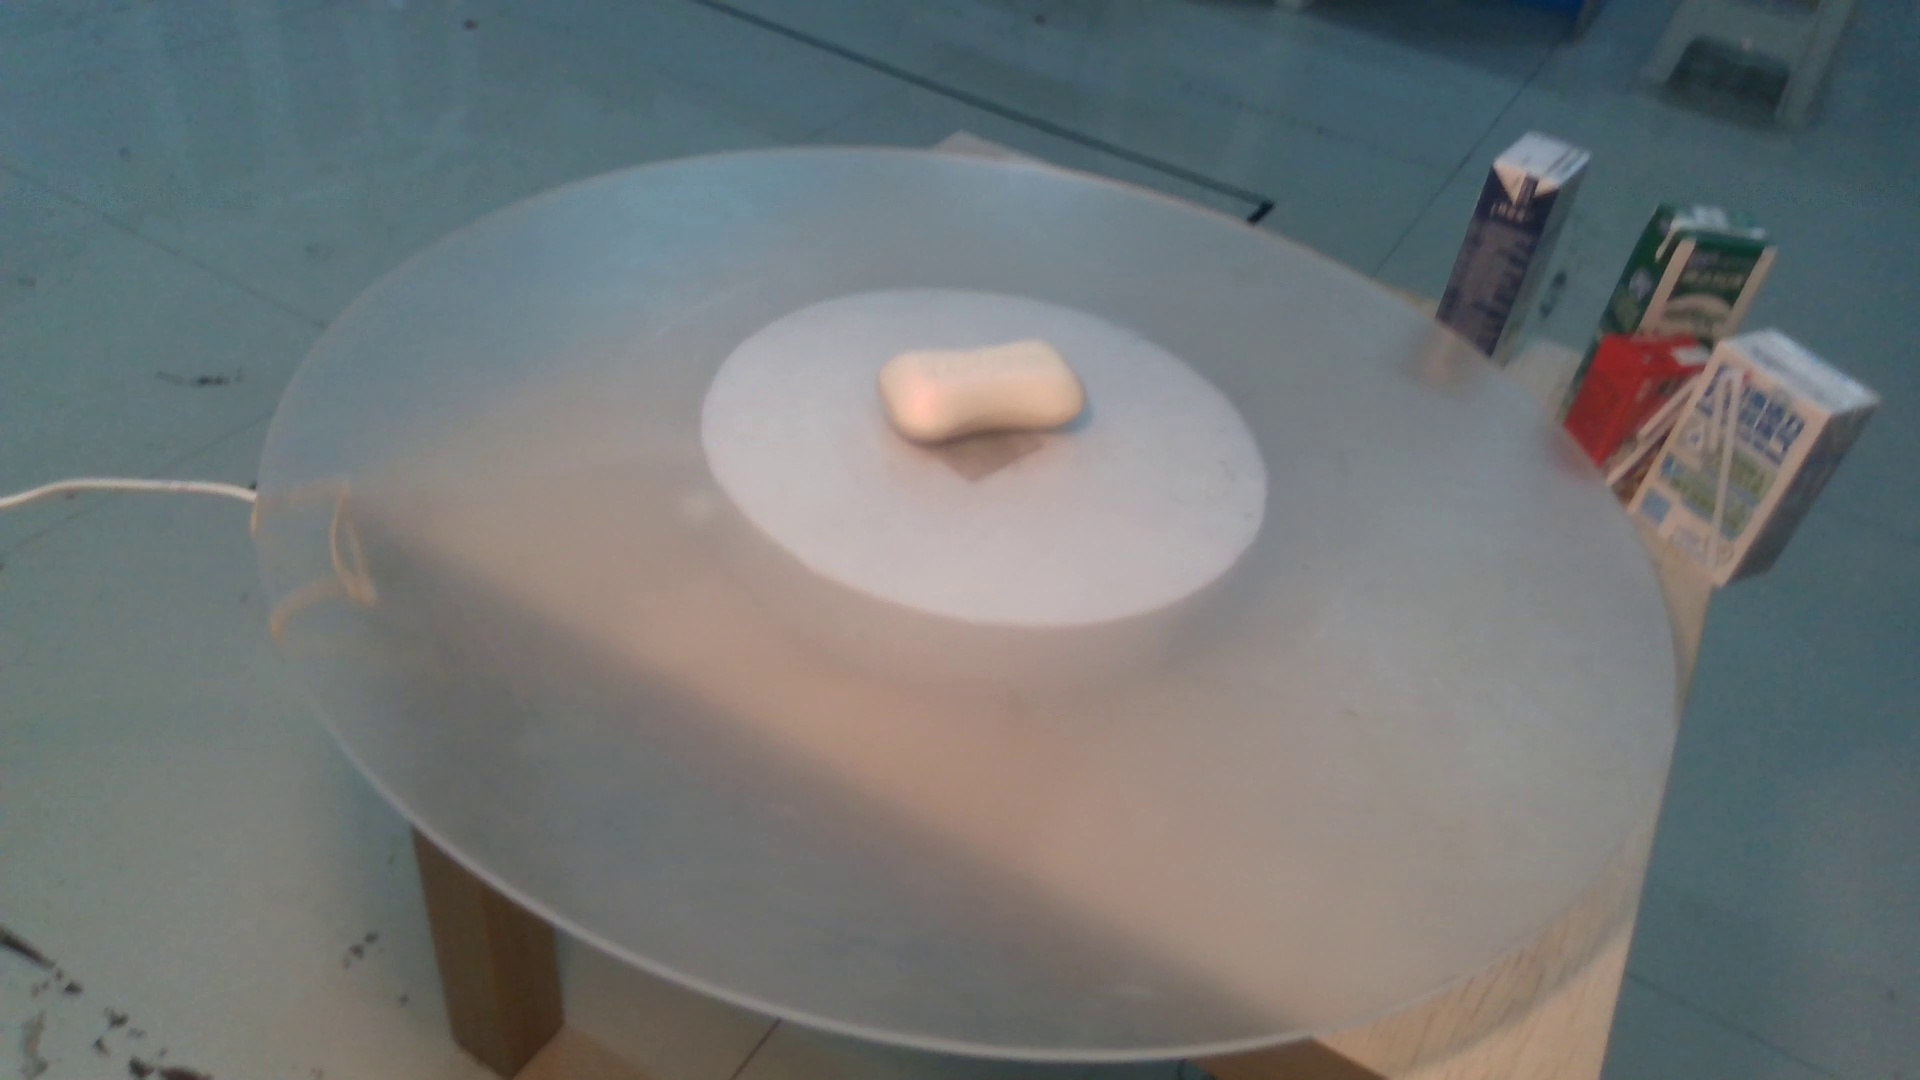CA003_1: (847, 303, 1133, 463)
